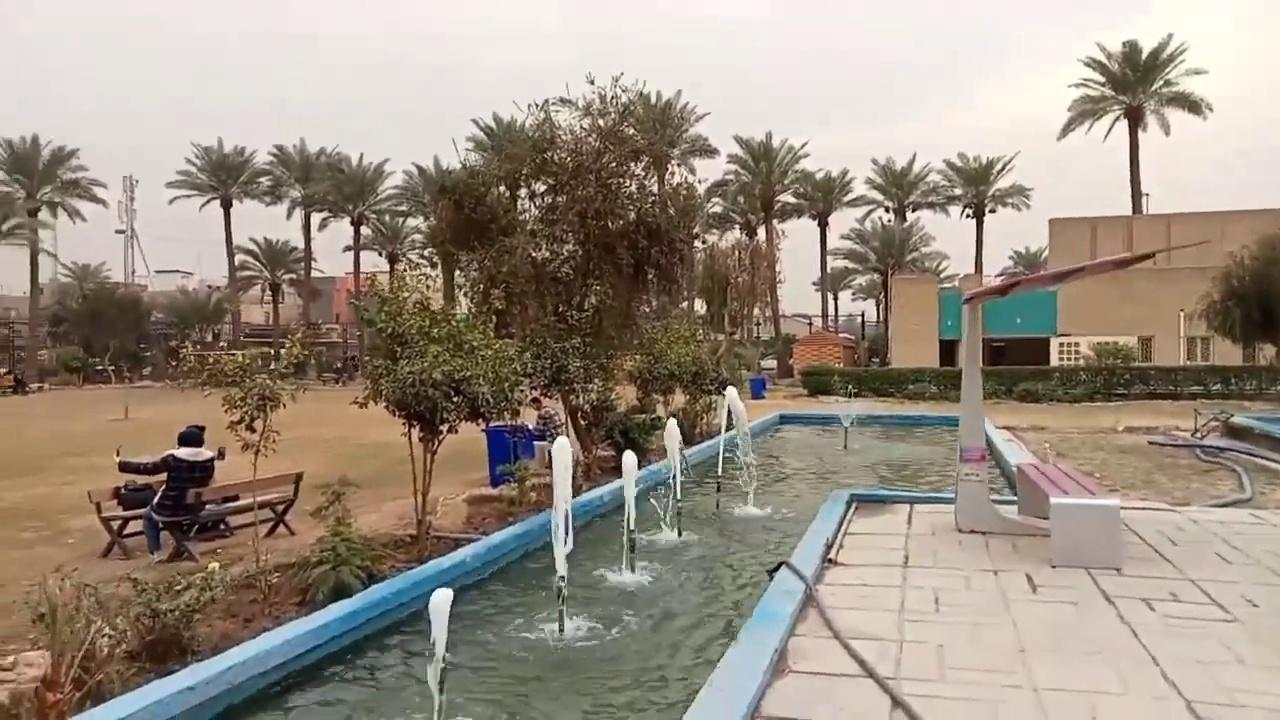fountain: (69, 389, 1111, 718), (951, 235, 1209, 566), (594, 448, 655, 587), (714, 384, 773, 518), (547, 434, 575, 635)
person: (112, 424, 216, 563)
tree: (451, 71, 721, 483), (347, 278, 531, 556), (194, 333, 309, 594), (1056, 31, 1213, 214), (0, 131, 109, 383), (709, 129, 811, 378), (163, 135, 273, 348), (622, 87, 718, 314), (309, 151, 398, 376), (827, 216, 948, 365), (391, 152, 493, 313), (259, 136, 341, 325), (624, 302, 727, 446), (341, 212, 427, 375), (930, 149, 1033, 284), (38, 260, 151, 381), (693, 235, 778, 386), (1191, 227, 1279, 368), (789, 166, 858, 333), (232, 234, 307, 365), (847, 150, 947, 227), (341, 213, 426, 294), (159, 282, 230, 349), (811, 265, 856, 333), (56, 259, 111, 303), (1006, 244, 1048, 274), (61, 353, 92, 387)
